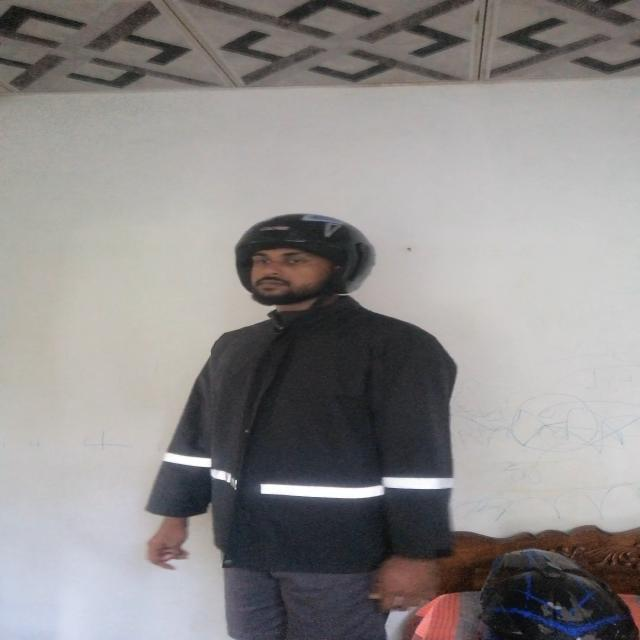Helmet_Wearer: (222, 205, 397, 336)
Jacket_Wearer: (154, 294, 474, 600)
Person: (172, 209, 462, 628)
